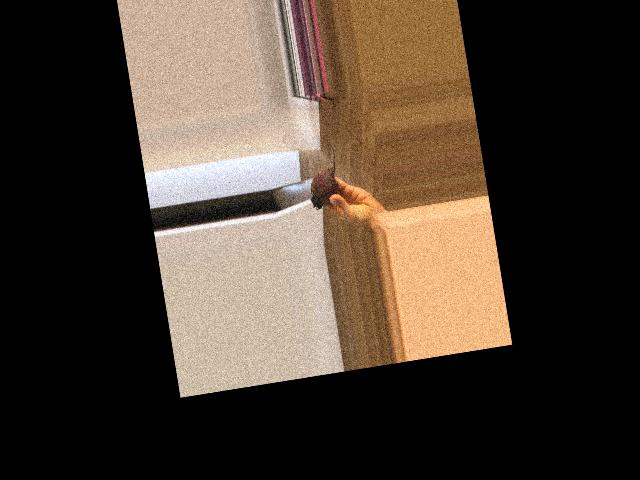beet: (302, 140, 342, 209)
